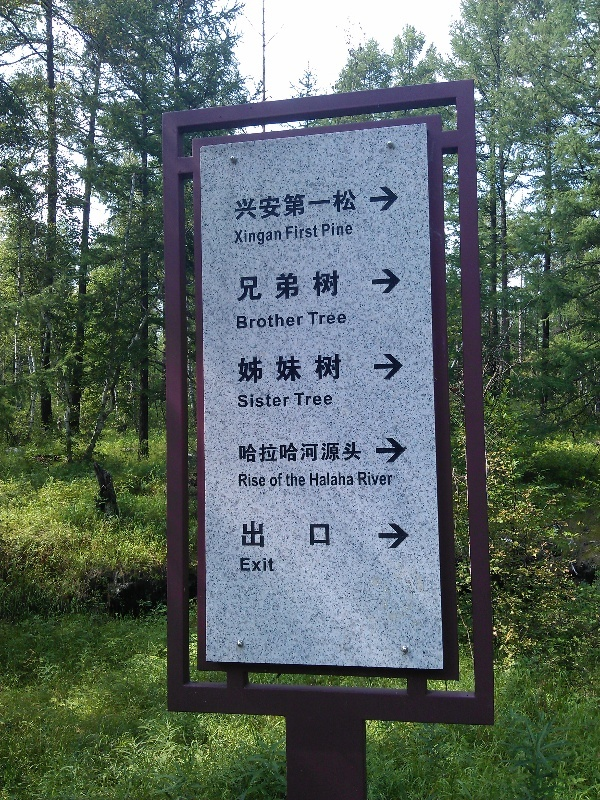text: (241, 187, 256, 221), (257, 187, 272, 221), (273, 187, 288, 221), (289, 187, 304, 221), (305, 187, 320, 221), (321, 187, 336, 221), (337, 187, 352, 221), (241, 269, 256, 303), (257, 269, 272, 303), (273, 269, 288, 303), (289, 269, 304, 303), (305, 269, 320, 303), (321, 269, 336, 303), (241, 353, 256, 385), (257, 353, 272, 385), (273, 353, 288, 385), (289, 353, 304, 385), (305, 353, 320, 385), (321, 353, 336, 385), (241, 520, 256, 547), (257, 520, 272, 547), (273, 520, 288, 547), (289, 520, 304, 547), (305, 520, 320, 547), (241, 440, 256, 463), (257, 440, 272, 463), (273, 440, 288, 463), (289, 440, 304, 463), (305, 440, 320, 463), (321, 440, 336, 463), (337, 440, 352, 463), (241, 226, 256, 249), (257, 226, 272, 249), (241, 391, 256, 411), (257, 391, 272, 411), (273, 391, 288, 411), (321, 520, 332, 547), (289, 312, 305, 330), (241, 312, 256, 330), (257, 312, 272, 330), (273, 312, 288, 330), (241, 472, 256, 489), (289, 224, 304, 241), (305, 224, 320, 241), (321, 310, 336, 327), (241, 556, 256, 572), (257, 556, 272, 572), (321, 222, 336, 238), (337, 222, 352, 238), (233, 187, 240, 221), (353, 440, 363, 463), (321, 472, 336, 487), (337, 472, 352, 487), (337, 353, 344, 385), (307, 310, 320, 327), (305, 392, 320, 406), (289, 473, 304, 487), (369, 472, 384, 486), (273, 226, 282, 249), (337, 310, 348, 327), (321, 392, 334, 406), (353, 187, 358, 221), (357, 472, 368, 486), (257, 472, 266, 489), (310, 472, 320, 487), (294, 392, 304, 406), (273, 473, 283, 487), (234, 226, 240, 249), (236, 269, 240, 303), (337, 269, 341, 303), (236, 353, 240, 385), (385, 472, 394, 486), (235, 312, 240, 330), (237, 391, 240, 411), (237, 472, 240, 489), (285, 224, 288, 241), (273, 556, 276, 572), (238, 440, 240, 463), (285, 473, 288, 487), (289, 391, 291, 411), (353, 222, 355, 238), (270, 473, 272, 487), (239, 556, 240, 572), (353, 472, 354, 487), (305, 473, 306, 487)
